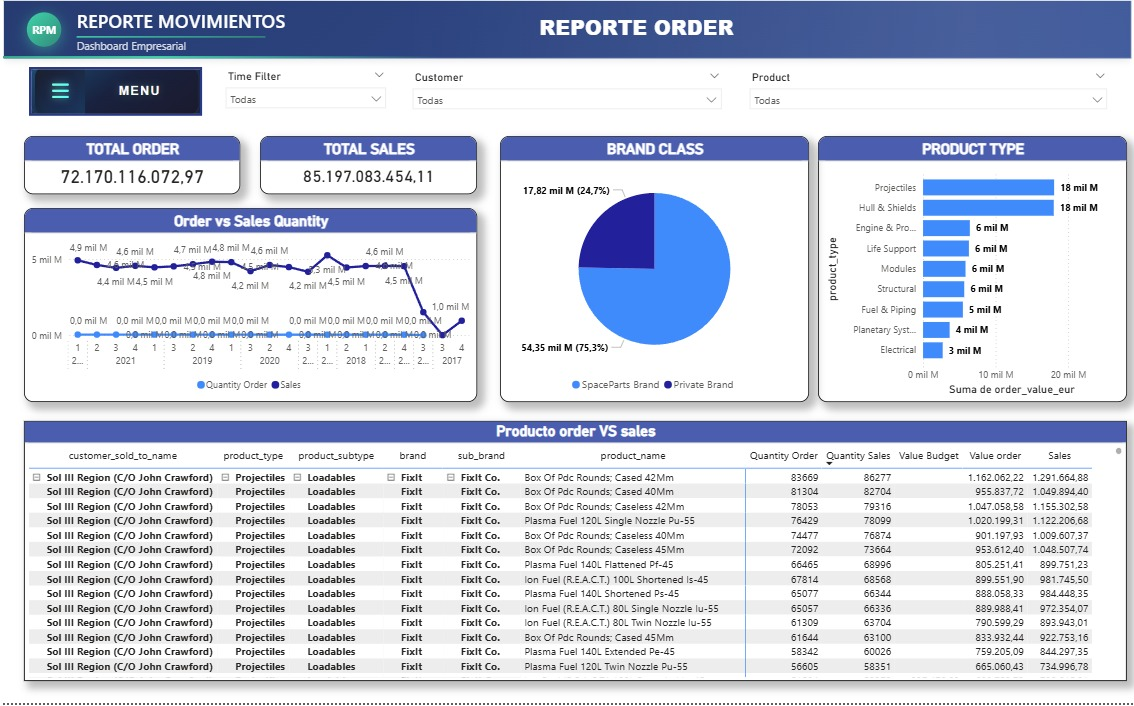

The dashboard page shown, as its layout file describes it:
{"tool":"powerbi","page":{"name":"ORDER","canvas":[1480,921],"ordinal":2},"visuals":[{"type":"group","id":"g1","title":"Grupo 1","box":[0,0,1480,921],"z":0},{"type":"htmlContent443BE3AD55E043BF878BED274D3A6855","fields":{"content":["Calendar.HTML Fondo Diapositiva"]},"box":[0,0,1480,921],"z":0,"group":"g1"},{"type":"textbox","box":[351.4,15.1,955.9,62.1],"z":1000,"group":"g1"},{"type":"slicer","fields":{"Values":["Calendar.date Hierarchy.year","Calendar.date Hierarchy.quarter","Calendar.date Hierarchy.monthName","Calendar.date Hierarchy.date"]},"box":[284.3,90.6,229.3,62.9],"z":1000},{"type":"slicer","fields":{"Values":["gold_dim_product.product_type","gold_dim_product.product_subtype","gold_dim_product.product_name","gold_dim_product.color"]},"box":[968,90.9,486.3,62.1],"z":2000},{"type":"slicer","fields":{"Values":["gold_dim_customer.account_type","gold_dim_customer.station","gold_dim_customer.account_name","gold_dim_customer.account_manager"]},"box":[528.7,90.9,422.6,62.1],"z":3000},{"type":"lineChart","title":"Order vs Sales Quantity","fields":{"Y":["Sum(gold_fact_orders.quantity)","gold_fact_sales.Sales Only"],"Category":["Calendar.date Hierarchy.year","Calendar.date Hierarchy.quarter"]},"box":[31.8,275.7,590.8,253],"z":4000},{"type":"pieChart","title":"BRAND CLASS","fields":{"Category":["gold_dim_product.brand_class"],"Y":["Sum(gold_fact_orders.order_value_eur)"]},"box":[651.4,181.8,402.9,346.9],"z":5000},{"type":"clusteredBarChart","title":"PRODUCT TYPE","fields":{"Category":["gold_dim_product.product_type"],"Y":["Sum(gold_fact_orders.order_value_eur)"]},"box":[1066.4,181.8,402.9,346.9],"z":6000},{"type":"pivotTable","title":"Producto order VS sales","fields":{"Rows":["gold_dim_customer.customer_sold_to_name","gold_dim_product.product_type","gold_dim_product.product_subtype","gold_dim_product.brand","gold_dim_product.sub_brand_name","gold_dim_product.product_name"],"Values":["Sum(gold_fact_orders.quantity)","Sum(gold_fact_sales.quantity)","Sum(gold_fact_budget.budget_eur)","Sum(gold_fact_orders.order_value_eur)","gold_fact_sales.Sales Only"]},"box":[31.8,552.9,1437.6,339.3],"z":7000},{"type":"card","title":"TOTAL SALES","fields":{"Values":["gold_fact_sales.Sales Only"]},"box":[339.3,181.8,283.3,75.7],"z":8000},{"type":"card","title":"TOTAL ORDER","fields":{"Values":["Sum(gold_fact_orders.order_value_eur)"]},"box":[31.8,181.8,281.8,75.7],"z":9000},{"type":"actionButton","box":[37.9,90.9,225.7,63.6],"z":10000}]}

Visuals, with their boxes in screenshot pixels (x1, y1, x2, y2), scaled from the page's 1480x921 canvas onto the 1134x706 screenshot:
"Grupo 1" group: x1=0, y1=0, x2=1133, y2=705
htmlContent443BE3AD55E043BF878BED274D3A6855 - Calendar.HTML Fondo Diapositiva: x1=0, y1=0, x2=1133, y2=705
textbox: x1=269, y1=12, x2=1002, y2=59
slicer - Calendar.date Hierarchy.year x Calendar.date Hierarchy.quarter: x1=218, y1=69, x2=394, y2=118
slicer - gold_dim_product.product_type x gold_dim_product.product_subtype: x1=742, y1=70, x2=1114, y2=117
slicer - gold_dim_customer.account_type x gold_dim_customer.station: x1=405, y1=70, x2=729, y2=117
"Order vs Sales Quantity" lineChart: x1=24, y1=211, x2=477, y2=405
"BRAND CLASS" pieChart: x1=499, y1=139, x2=808, y2=405
"PRODUCT TYPE" clusteredBarChart: x1=817, y1=139, x2=1126, y2=405
"Producto order VS sales" pivotTable: x1=24, y1=424, x2=1126, y2=684
"TOTAL SALES" card: x1=260, y1=139, x2=477, y2=197
"TOTAL ORDER" card: x1=24, y1=139, x2=240, y2=197
actionButton: x1=29, y1=70, x2=202, y2=118
